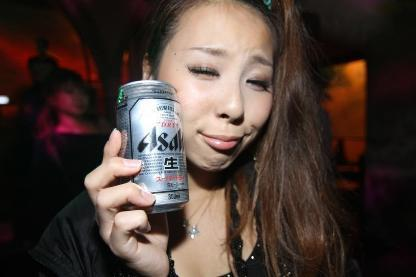Can: (102, 70, 198, 223)
